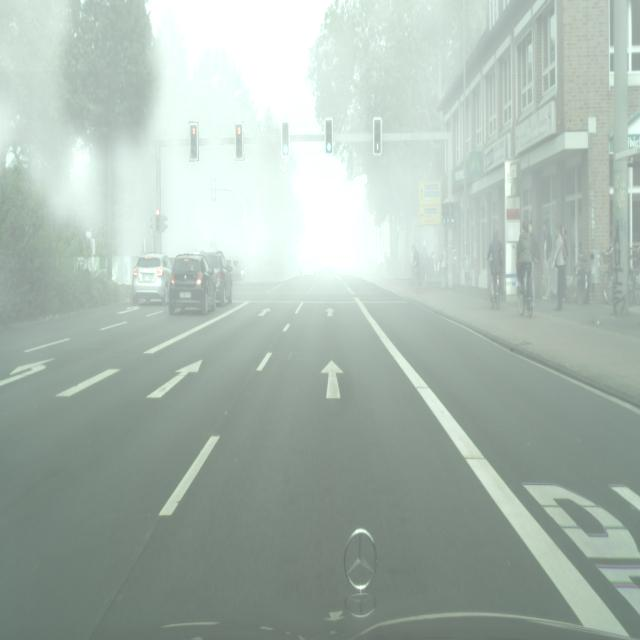bus: (168, 251, 216, 315), (132, 252, 172, 305), (205, 252, 233, 306), (302, 259, 313, 276)
car: (518, 222, 534, 318), (488, 232, 503, 309)
person: (552, 226, 568, 311), (541, 221, 552, 299), (412, 240, 420, 293), (420, 240, 428, 288), (439, 248, 447, 288)
